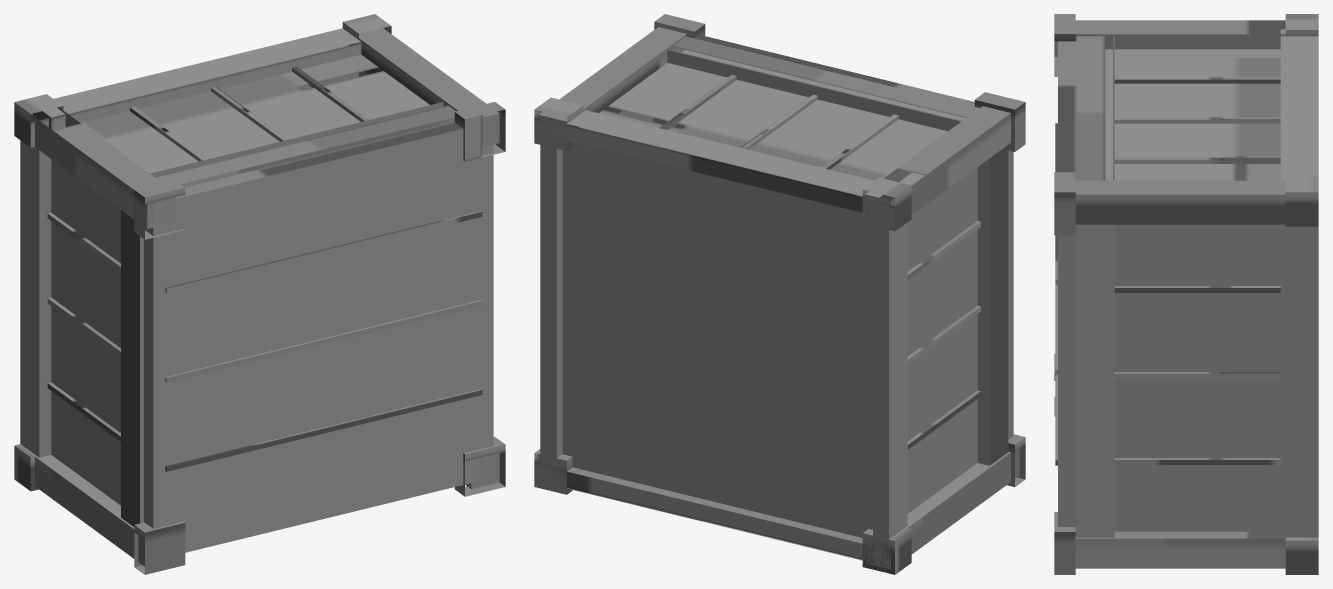
3 views of the same model, side by side, from view 1: azimuth 30°, elevation 25°; view 2: azimuth 150°, elevation 25°; view 3: azimuth 270°, elevation 25° (orthographic).
Size of the model in its own units: 0.89 by 0.89 by 0.5575.
